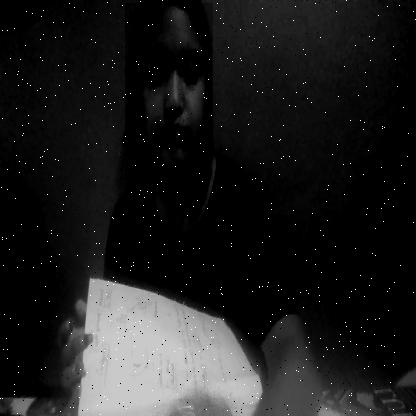Normal: (125, 3, 213, 181)
